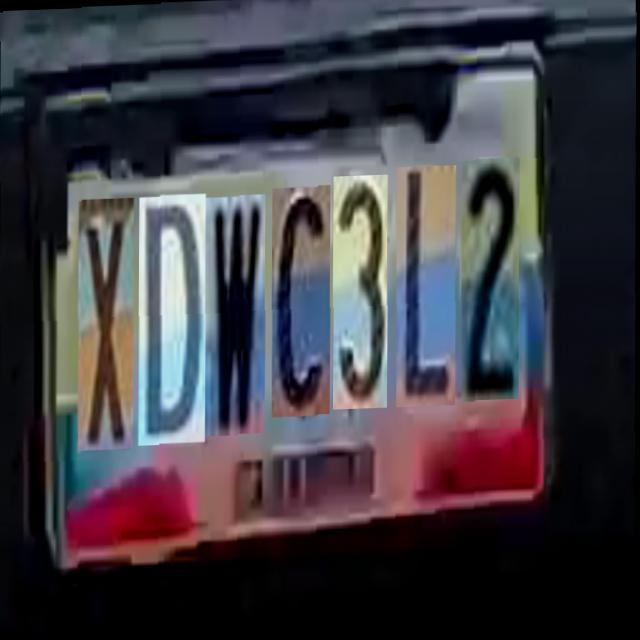2: (460, 160, 520, 403)
3: (332, 174, 387, 408)
C: (270, 183, 330, 414)
D: (137, 188, 205, 438)
L: (396, 166, 456, 408)
W: (204, 191, 265, 431)
X: (77, 190, 133, 444)
